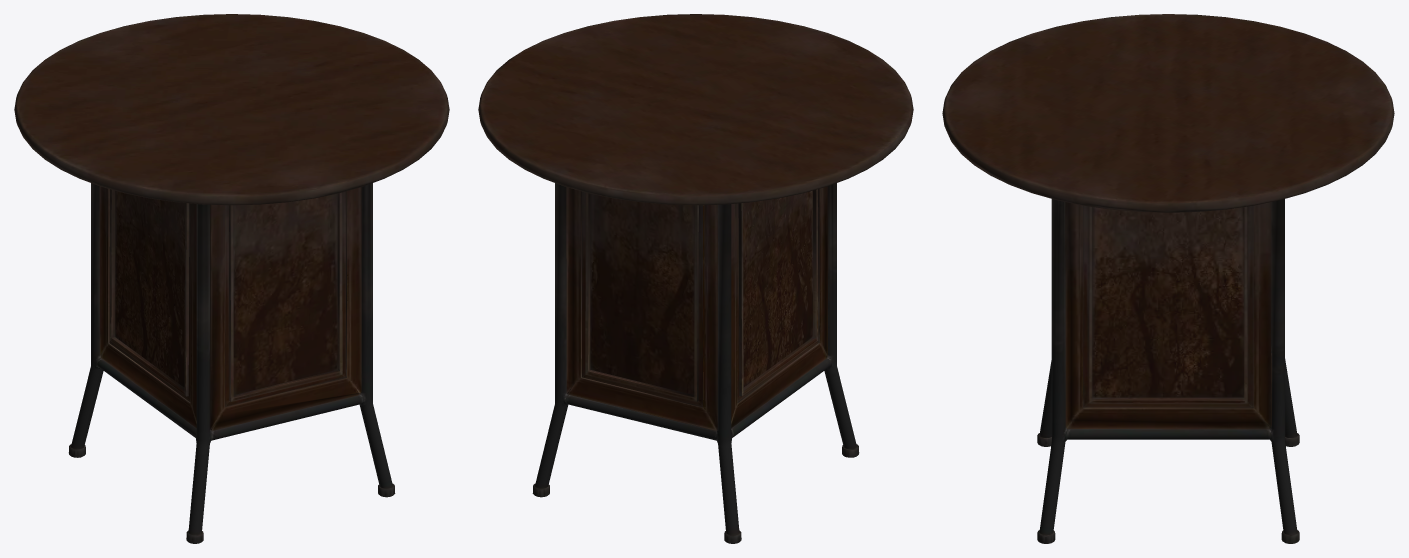
Rendered from round_wooden_table_02.glb.
3 renders of one model, left to right at view 1: azimuth 30°, elevation 25°; view 2: azimuth 150°, elevation 25°; view 3: azimuth 270°, elevation 25°, orthographic. The views are drawn at different scales.
Visible parts, largest first — view 1: round_wooden_table_02; view 2: round_wooden_table_02; view 3: round_wooden_table_02.
Part boxes in pixels (bbox=[...]): round_wooden_table_02: bbox=[14, 14, 449, 543]; round_wooden_table_02: bbox=[478, 14, 913, 543]; round_wooden_table_02: bbox=[942, 14, 1394, 543].
Bounding box in the file's own units: 0.7962 × 0.746 × 0.7962.
1 material, 1 textured.
